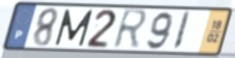2: (85, 8, 119, 50)
8: (30, 7, 60, 48)
9: (146, 10, 174, 51)
I: (170, 11, 192, 52)
M: (53, 8, 95, 48)
R: (110, 8, 150, 51)
